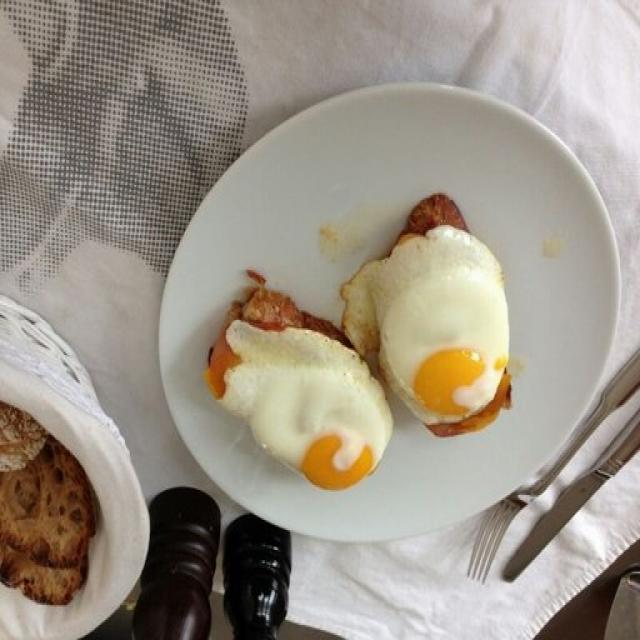telur ceplok: (215, 318, 394, 490), (374, 225, 509, 427)
